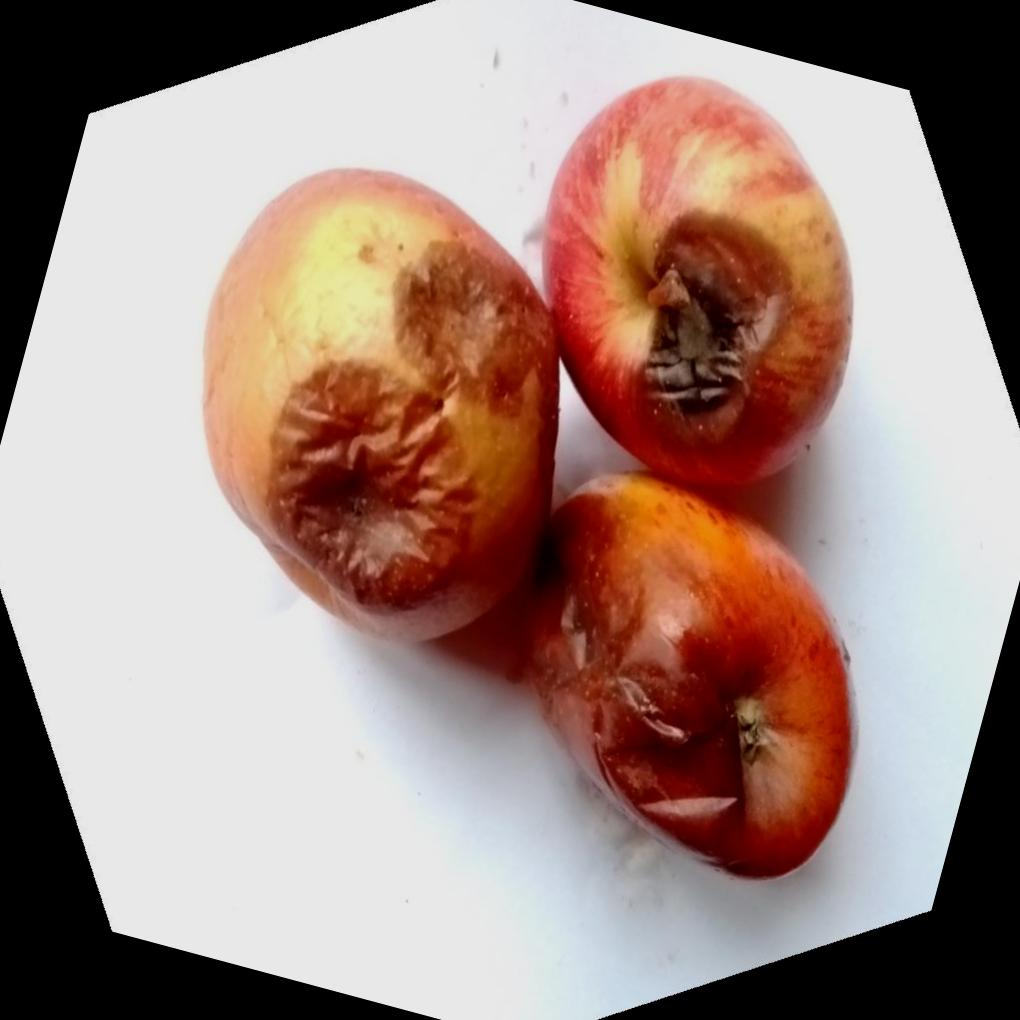FreshOrange: (201, 70, 856, 867)
